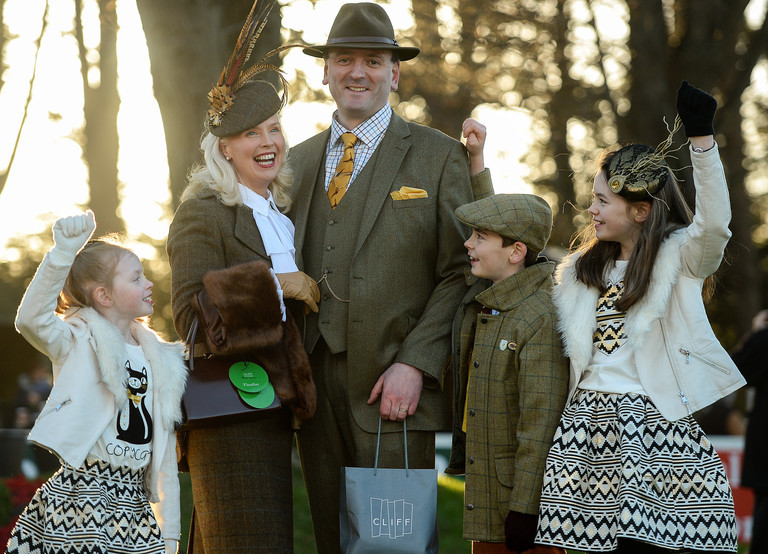Person: (552, 81, 749, 554), (169, 1, 320, 553), (305, 3, 456, 554), (12, 209, 184, 554), (455, 117, 553, 554)
